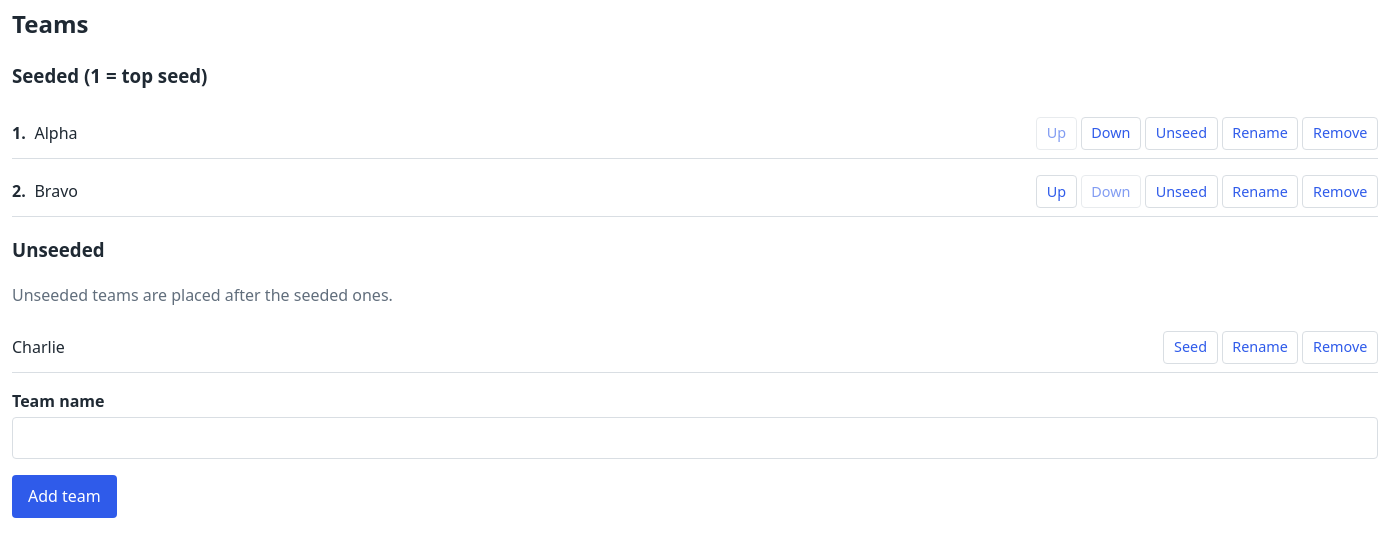
TeamManager › seeds an unseeded team after the current seeds
What coordinates should you click on to do the following:
click the button with aria-label "Seed Charlie next"
I would click on:
 (1191, 347)
Its box is x1=1164 y1=330 x2=1218 y2=364.
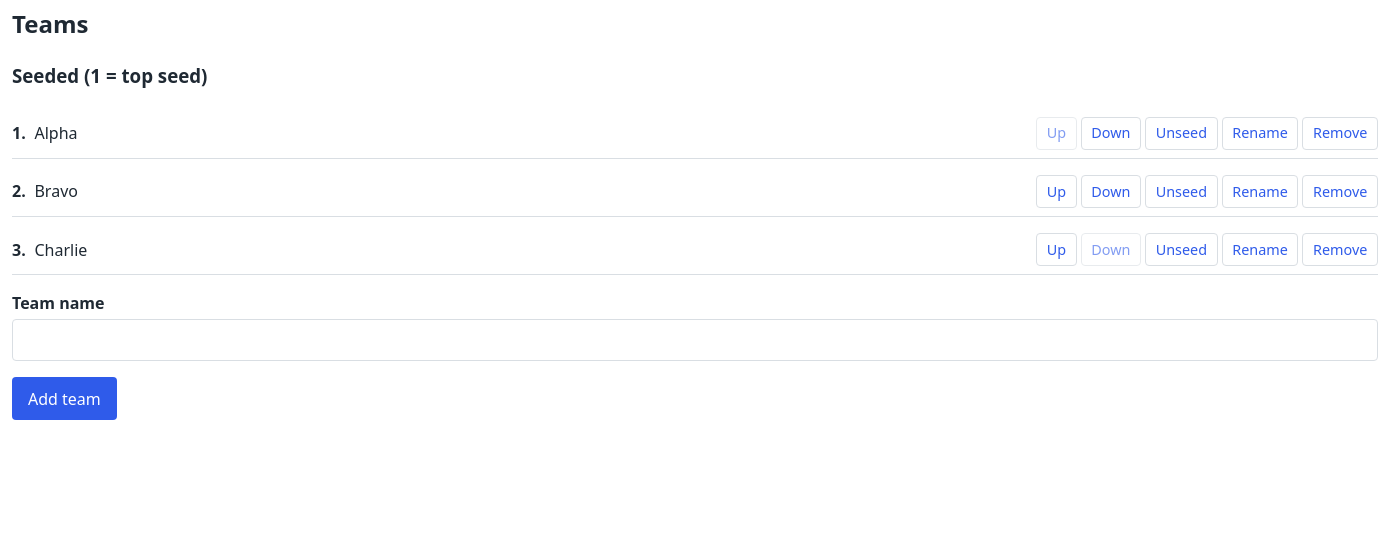
Result: the text "3." is shown at x1=12 y1=239 x2=26 y2=261
